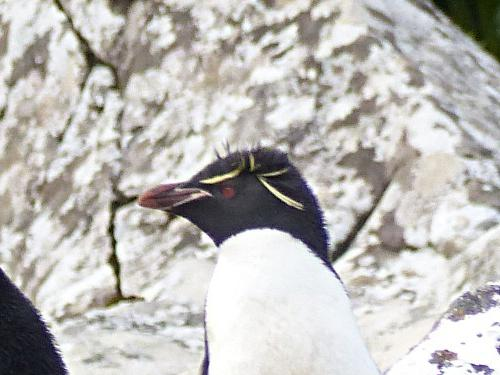Southern Rockhopper Penguin: (111, 127, 396, 375), (0, 205, 102, 375)
